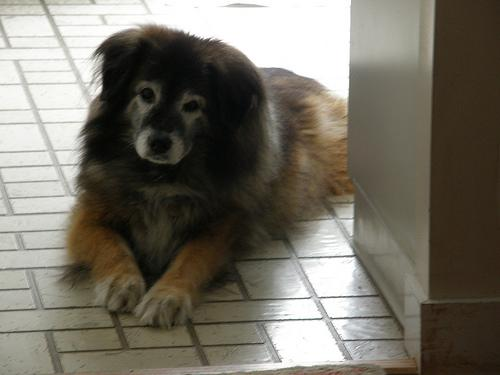dog-leonberger: (99, 25, 257, 164)
